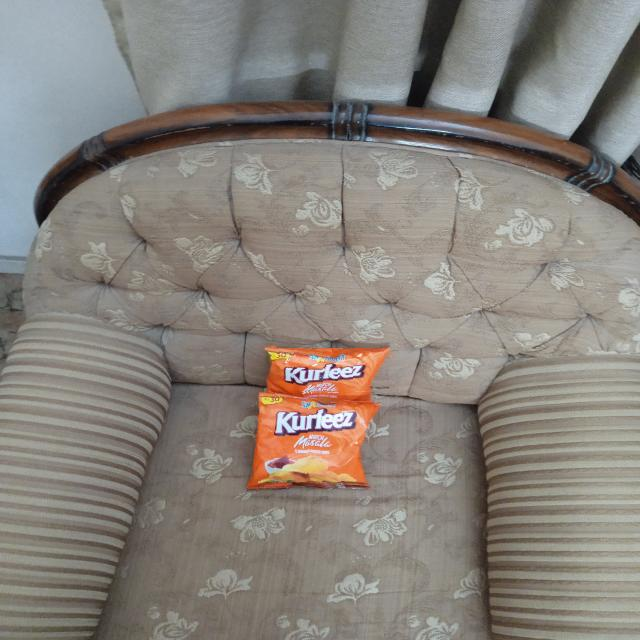Plastic: (258, 392, 374, 488), (271, 348, 390, 397)
